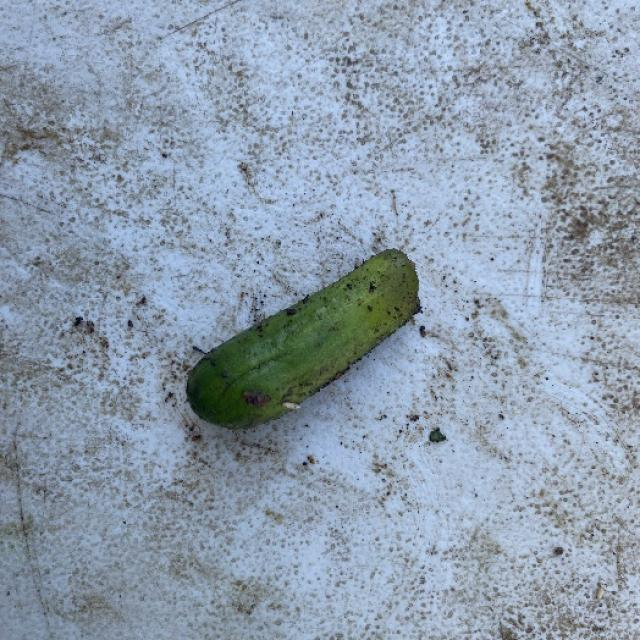organik: (179, 251, 421, 434)
